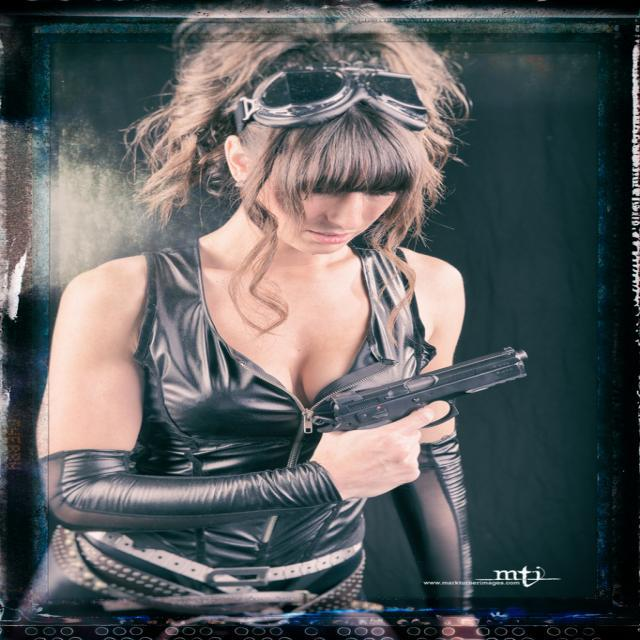Gun: (311, 348, 528, 432)
